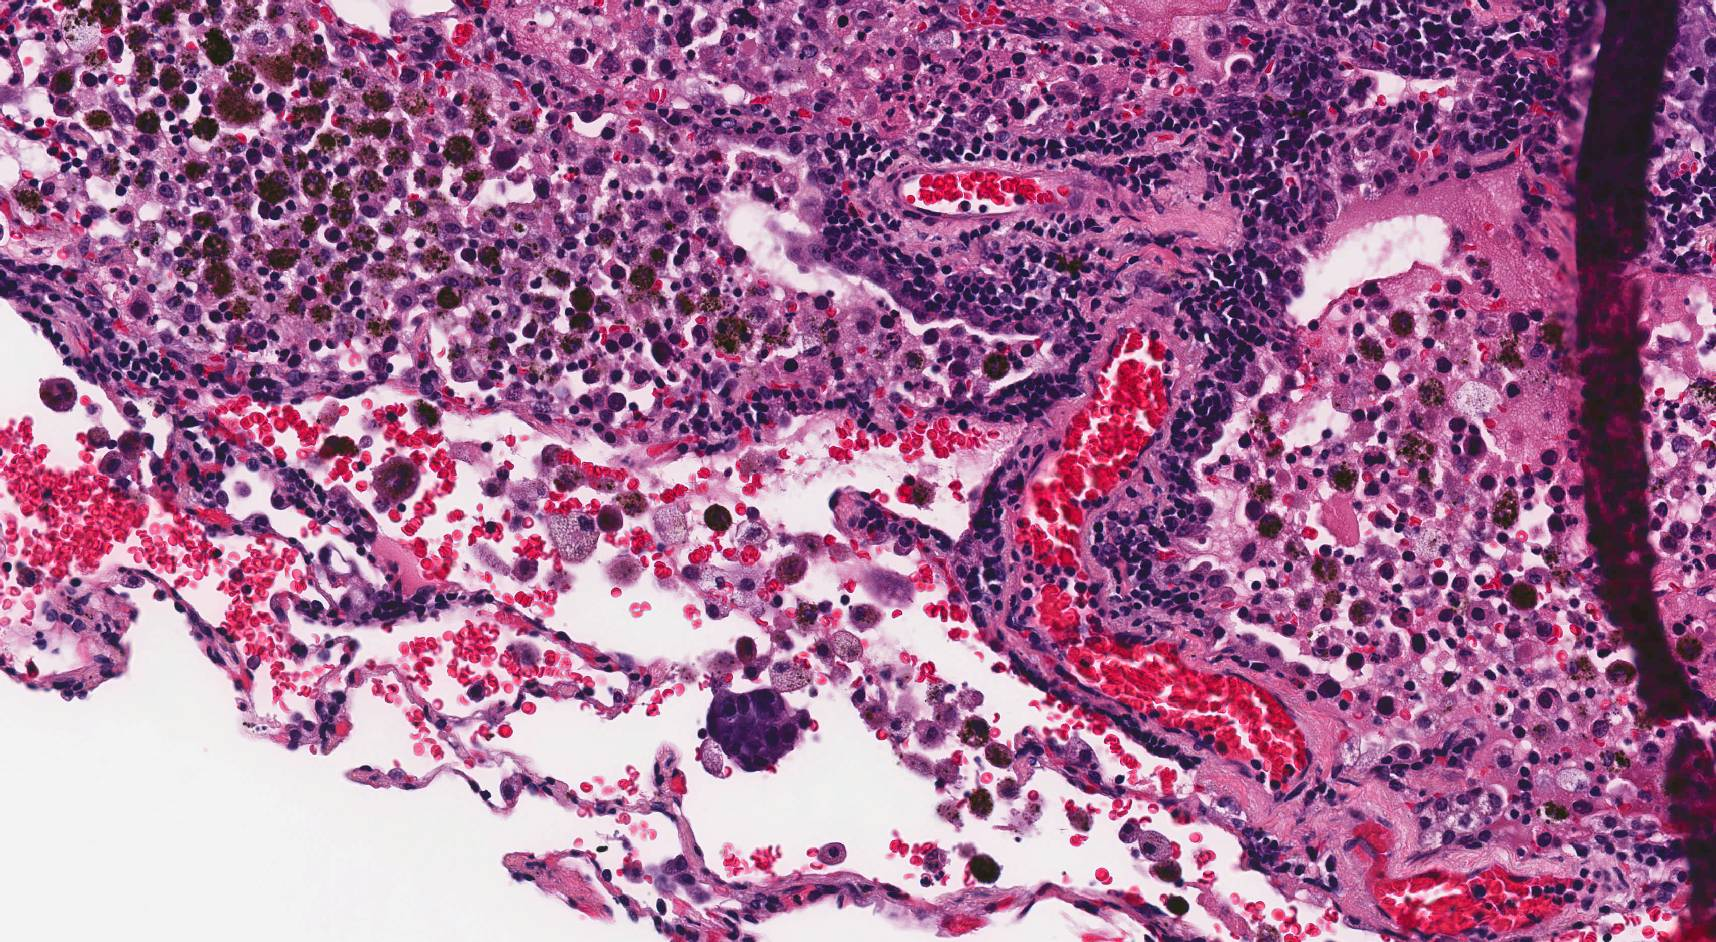stas: (705, 689, 801, 771)
